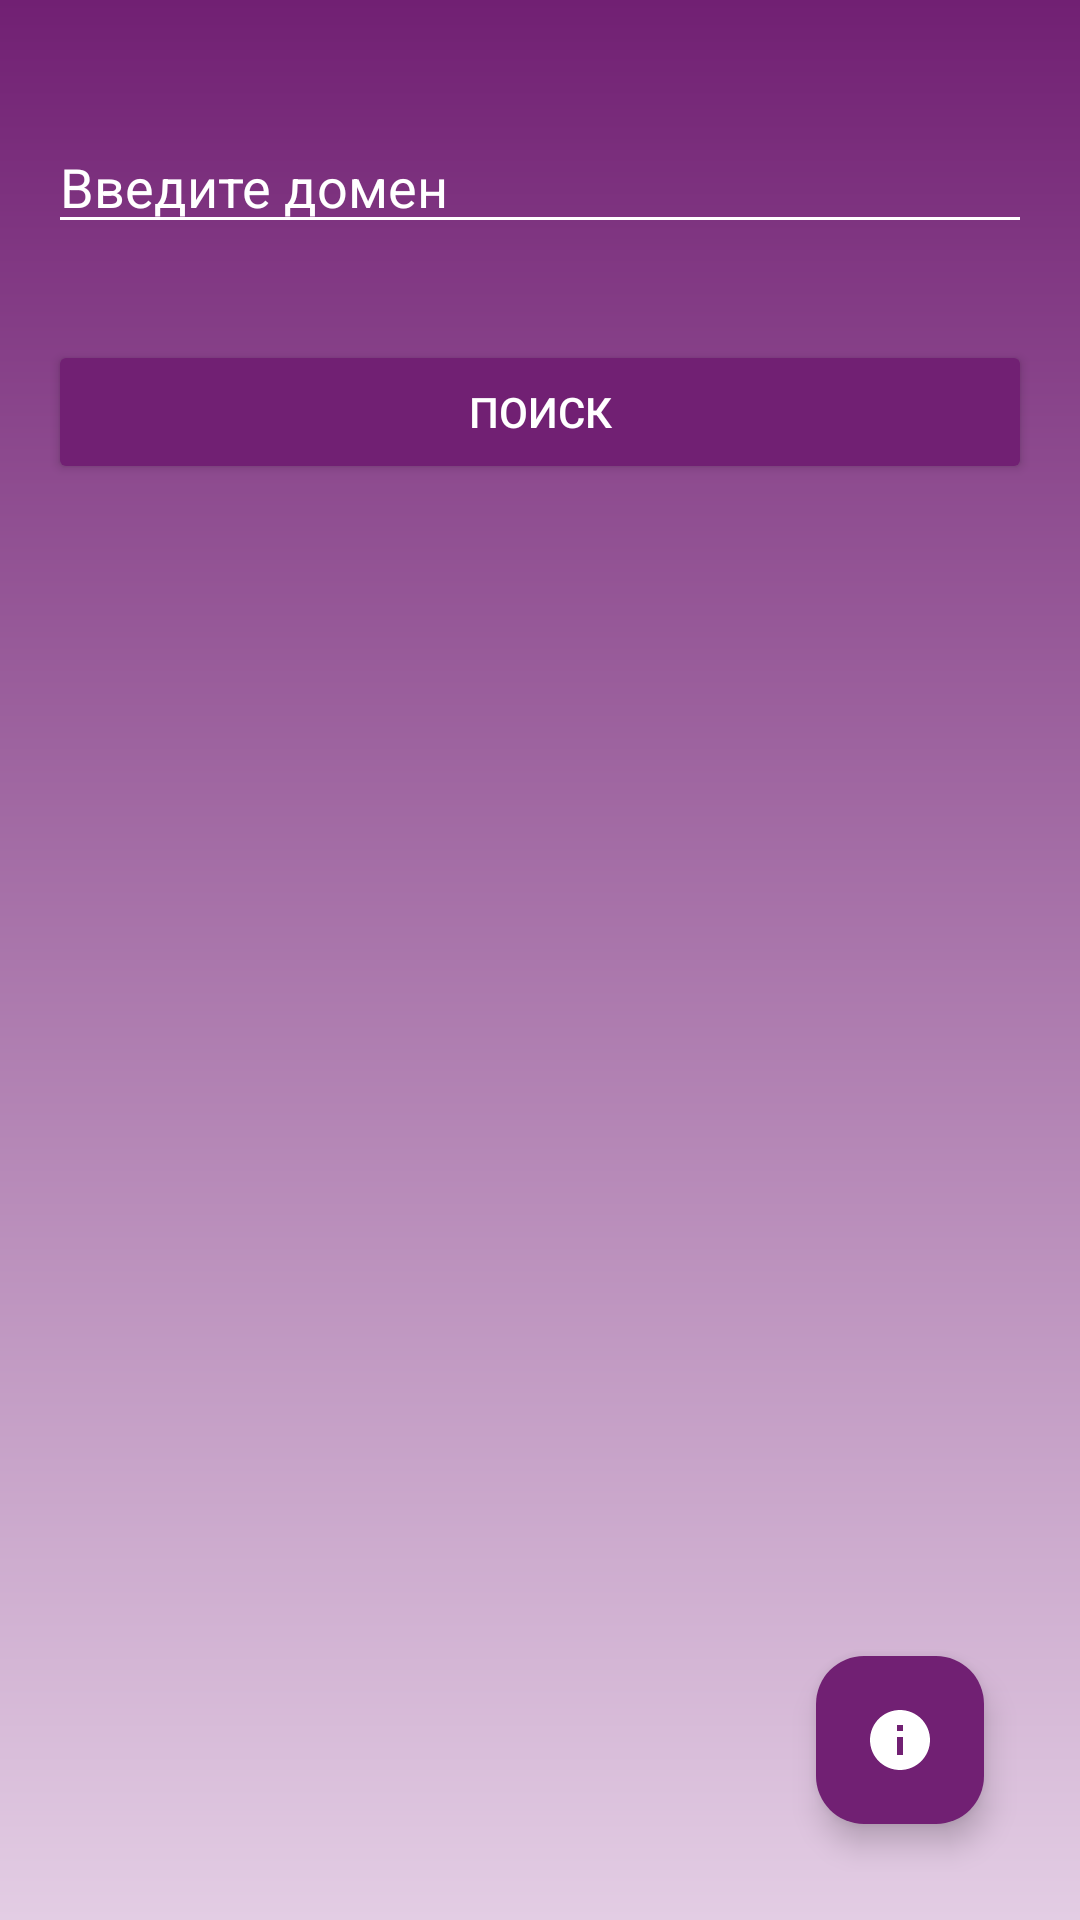

Point at icon controls on the screen. Image size 1080*1920, points as [x,y].
info: [900,1740]
